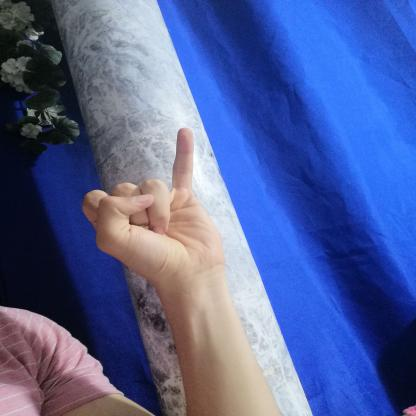MEEM: (67, 122, 230, 289)
